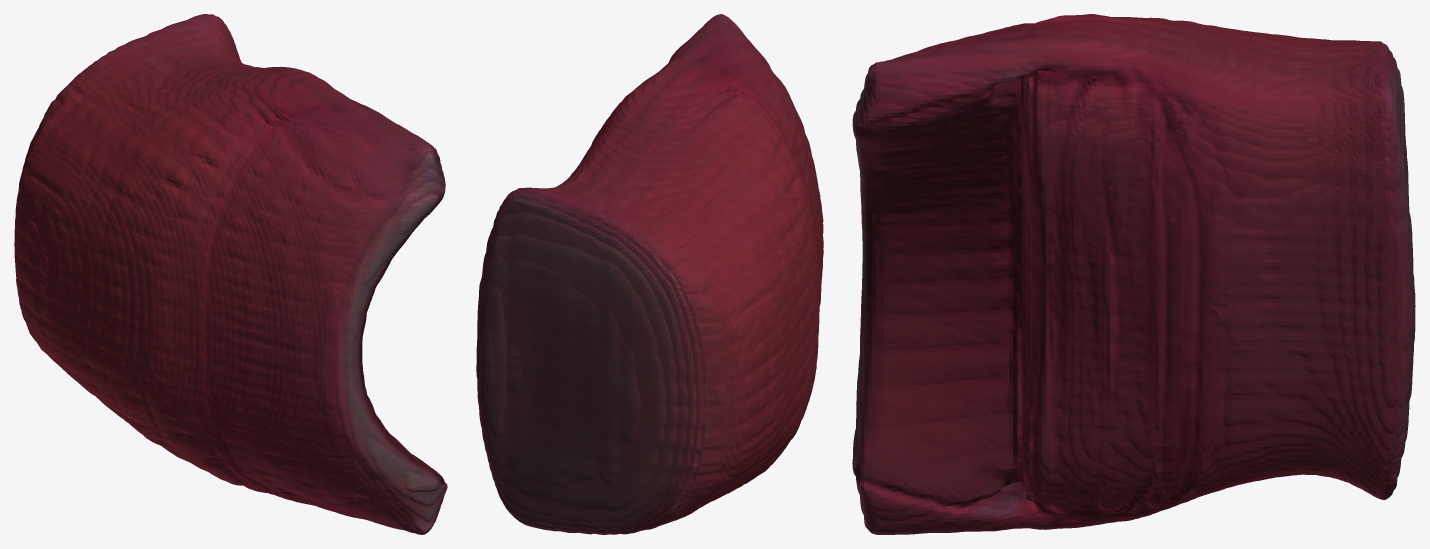
3 views of the same model, side by side, from view 1: azimuth 30°, elevation 25°; view 2: azimuth 150°, elevation 25°; view 3: azimuth 270°, elevation 25° (orthographic). The views are drawn at different scales.
Bounding box in the file's own units: 0.5942 × 0.9095 × 0.9506.
